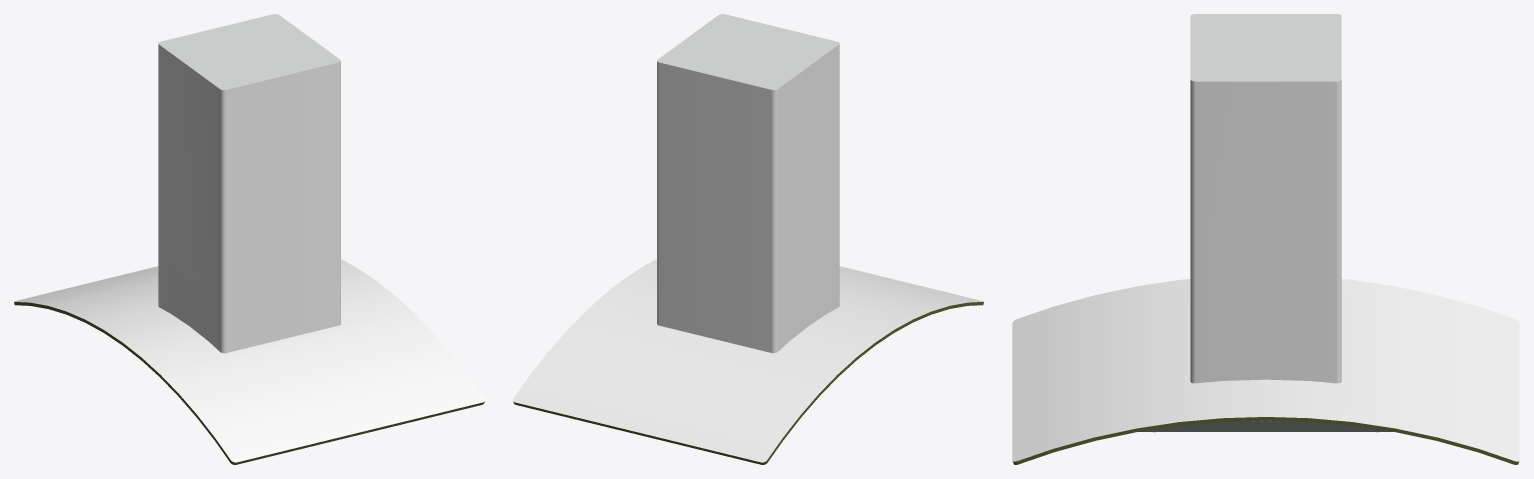
Rendered from hood_chimney_ge.glb.
3 views of the same model, side by side, from view 1: azimuth 30°, elevation 25°; view 2: azimuth 150°, elevation 25°; view 3: azimuth 270°, elevation 25° (orthographic). The views are drawn at different scales.
Visible parts, largest first — view 1: Material2 (×2), Material3; view 2: Material2 (×2), Material3; view 3: Material2 (×2), Material3.
Part boxes in pixels (left/top/right/bottom): Material2 (×2): left=14, top=44, right=484, bottom=464; Material3: left=158, top=14, right=340, bottom=89; Material2 (×2): left=513, top=44, right=983, bottom=464; Material3: left=657, top=14, right=839, bottom=89; Material2 (×2): left=1012, top=80, right=1519, bottom=464; Material3: left=1138, top=14, right=1393, bottom=432.
Bounding box in the file's own units: 73.64 × 83.93 × 111.
4 materials, 4 textured.
